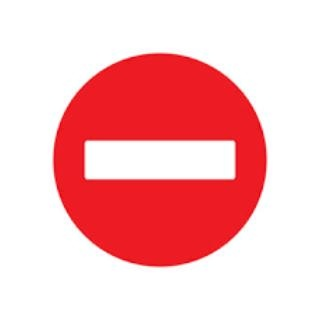sign_noentry: (40, 58, 264, 260)
